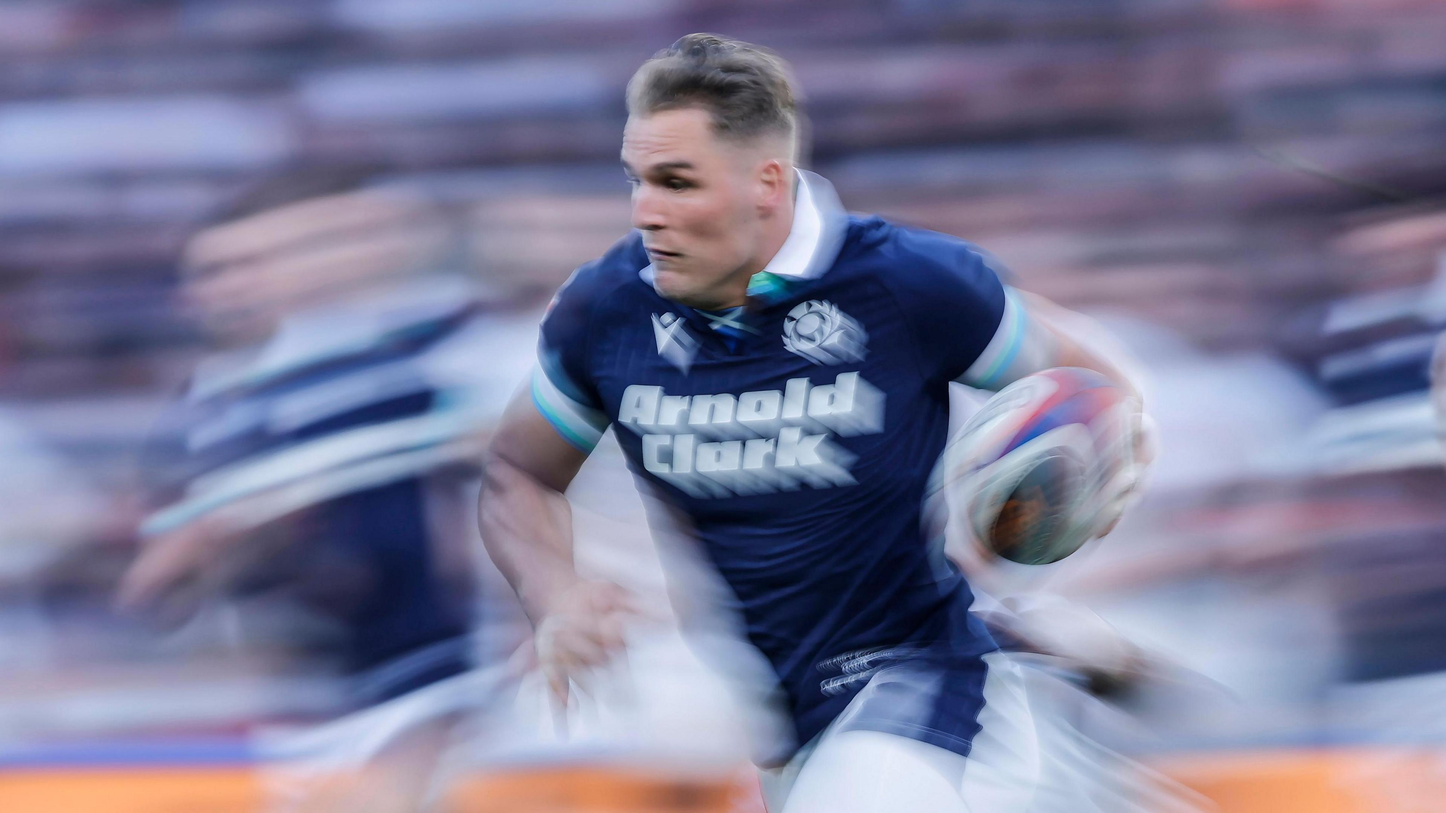ballon_rugby: (938, 358, 1146, 582)
